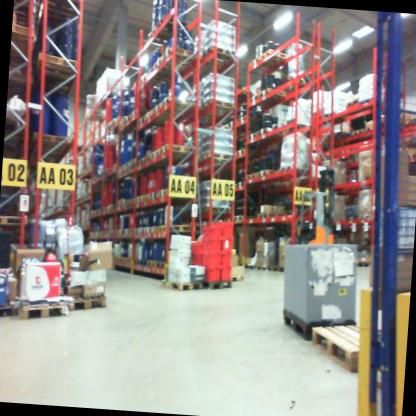forklift: (292, 157, 342, 258)
pallet: (305, 311, 379, 390), (31, 37, 84, 91), (28, 123, 78, 165), (20, 289, 71, 329), (66, 283, 113, 322), (11, 14, 40, 66), (142, 105, 195, 133), (150, 100, 196, 130), (191, 91, 238, 119), (152, 53, 198, 79), (138, 66, 185, 90), (201, 41, 242, 67), (36, 0, 89, 20), (247, 54, 288, 79), (157, 12, 192, 40), (160, 45, 201, 67), (0, 206, 30, 236), (161, 93, 199, 116), (165, 274, 206, 295), (0, 290, 21, 330), (200, 274, 236, 296), (259, 45, 292, 69), (198, 150, 234, 171), (258, 121, 286, 148), (159, 141, 193, 162), (148, 29, 187, 46), (158, 221, 199, 237), (255, 84, 288, 103), (256, 165, 284, 183), (356, 93, 381, 112), (14, 0, 42, 16), (232, 115, 253, 135), (228, 209, 249, 227), (157, 185, 181, 200), (247, 90, 265, 110), (364, 118, 381, 138), (255, 209, 274, 225), (344, 94, 359, 114), (233, 148, 249, 164), (129, 104, 142, 123), (154, 258, 172, 271), (352, 124, 365, 141), (142, 150, 153, 169), (151, 143, 161, 162), (121, 110, 132, 126), (254, 263, 269, 274), (145, 257, 157, 270), (148, 187, 159, 201), (246, 169, 257, 183), (248, 131, 259, 145), (127, 161, 137, 175), (137, 112, 145, 128), (267, 261, 278, 272), (135, 155, 143, 170), (151, 223, 159, 238), (141, 227, 151, 239), (119, 166, 128, 178), (120, 159, 129, 170), (129, 157, 135, 167)
small_load_carrier: (211, 218, 237, 240), (200, 263, 221, 286), (200, 235, 223, 254), (201, 250, 222, 270), (219, 264, 235, 287), (202, 224, 223, 240), (191, 236, 207, 255), (190, 252, 208, 267), (220, 251, 236, 265), (221, 239, 235, 252)
